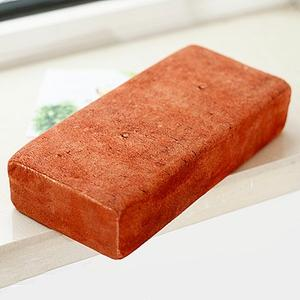brick: (6, 41, 294, 263)
